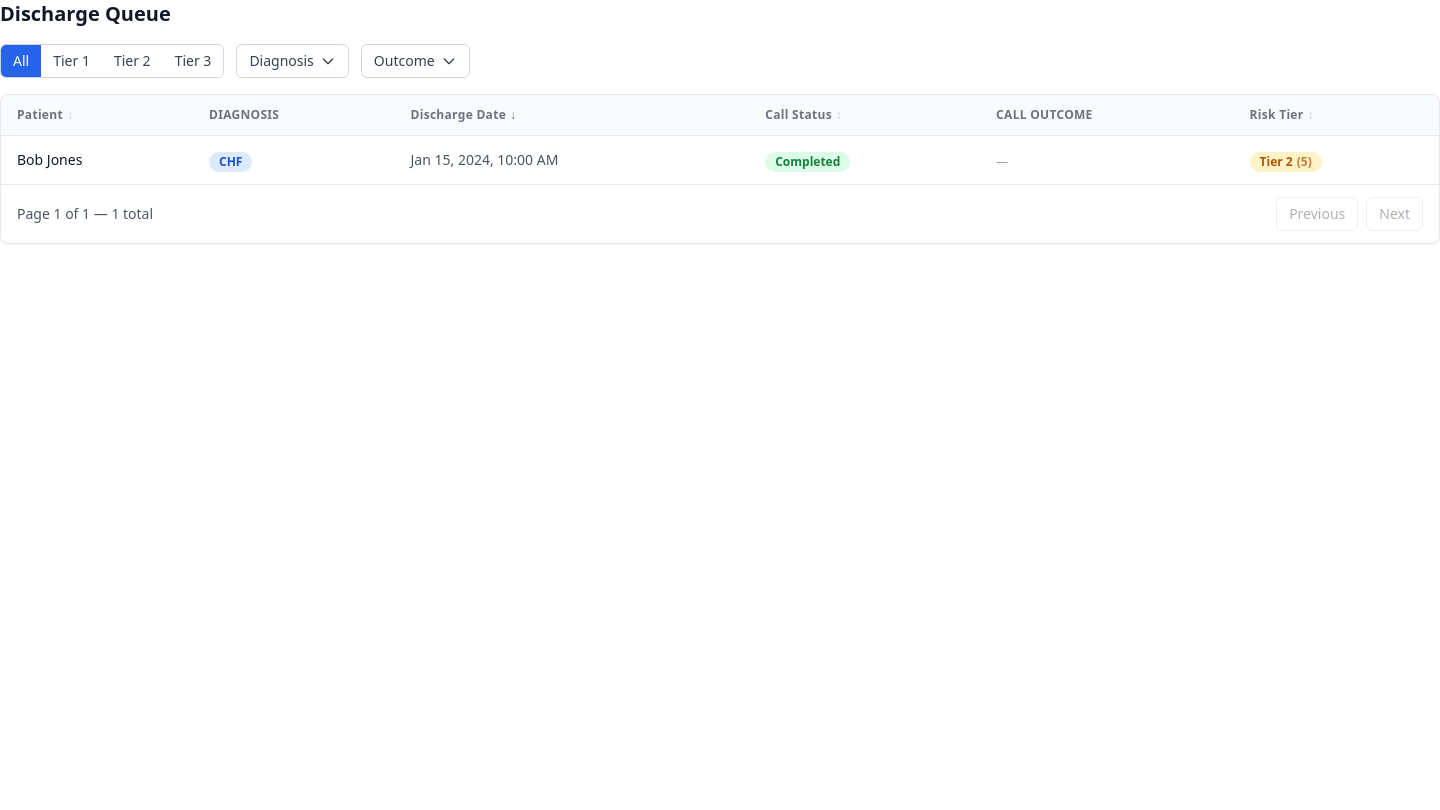
Test case: 12.17 – Physician rows non-interactive; Admin/Nurse rows open drawer › Nurse: clicking a row opens the drawer
Check: the text "Bob Jones" is shown, box [1,136,193,184]
Click the text "Bob Jones" at point(50, 160), box [1,136,1439,184]
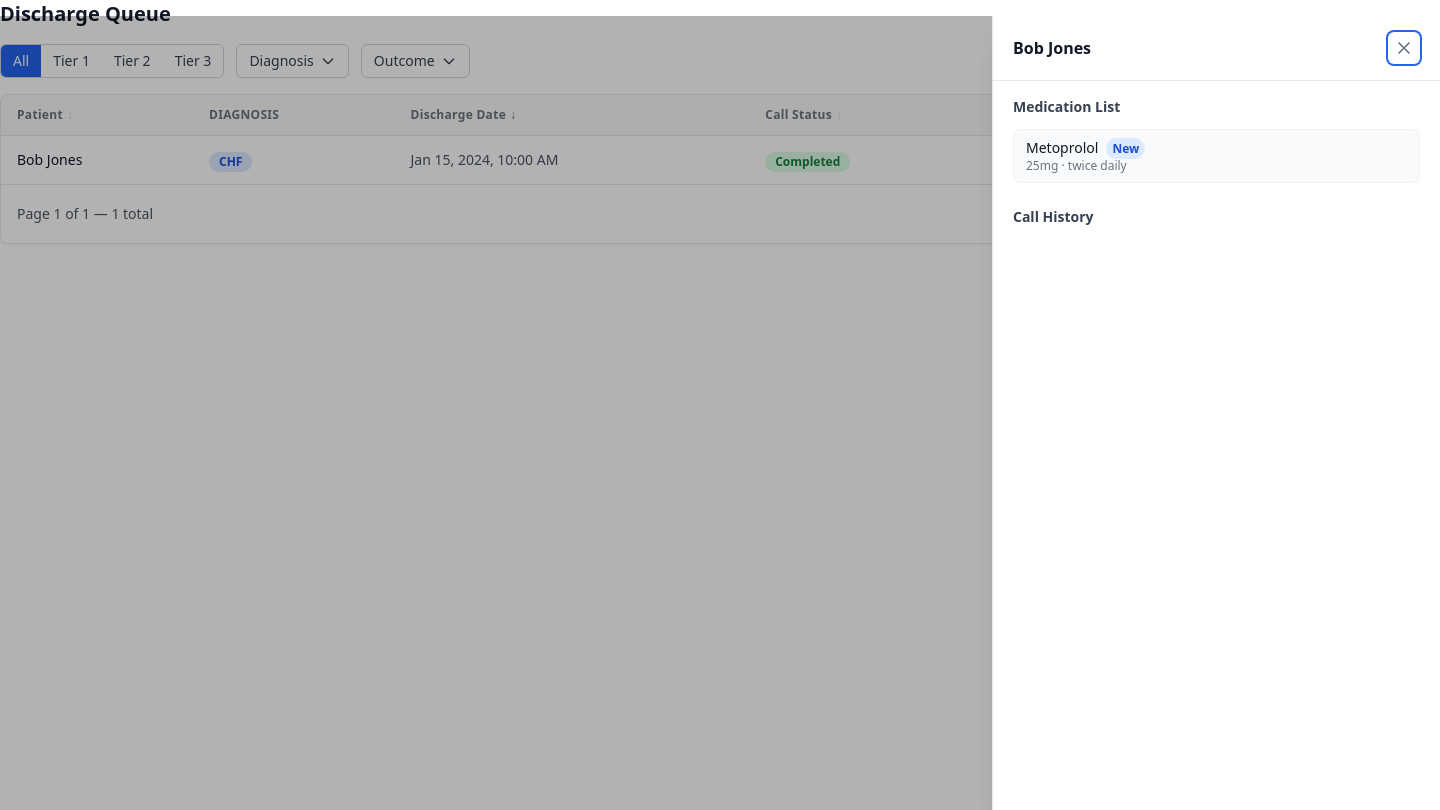
Check: the dialog is shown, box [992,16,1439,809]
Check: the text "Metoprolol" is shown, box [1026,138,1098,157]
